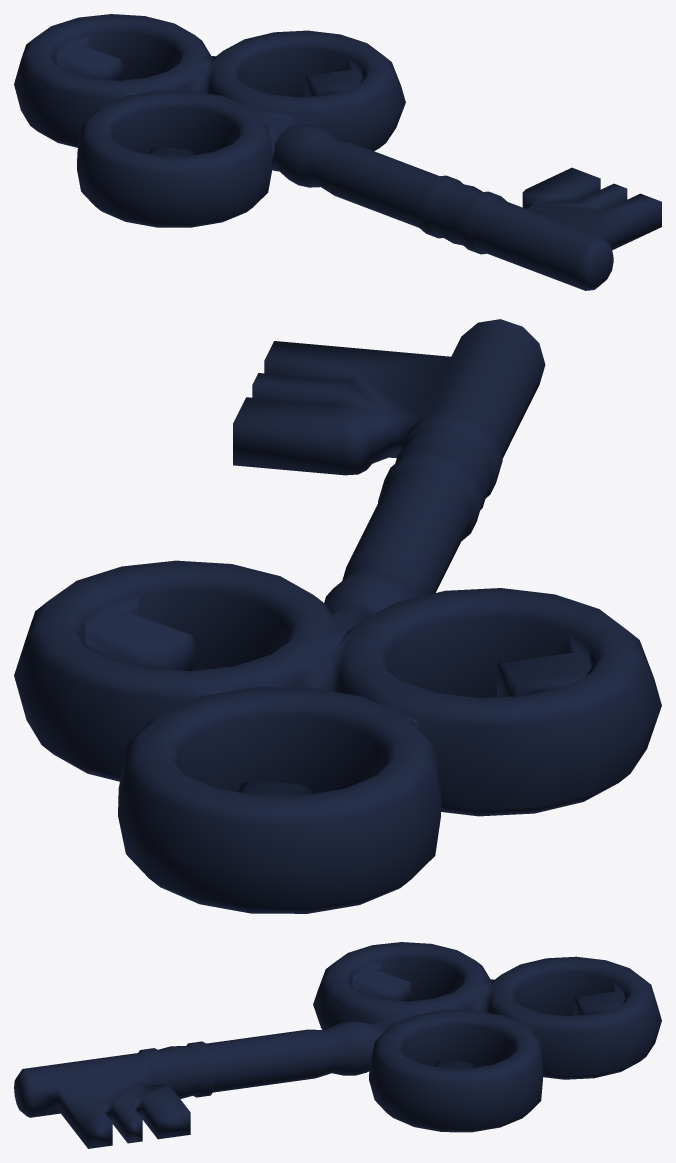
Rendered from Key3.obj.
3 renders of one model, top to bottom at view 1: azimuth 30°, elevation 25°; view 2: azimuth 150°, elevation 25°; view 3: azimuth 270°, elevation 25°, orthographic. The views are drawn at different scales.
Parts seen in each view (by area): view 1: Key3; view 2: Key3; view 3: Key3.
Boxes of the visible parts, bbox=[...] form: Key3: bbox=[14, 14, 661, 290]; Key3: bbox=[14, 319, 661, 913]; Key3: bbox=[14, 942, 661, 1148].
Bounding box in the file's own units: 1.91 × 0.2976 × 3.04.
